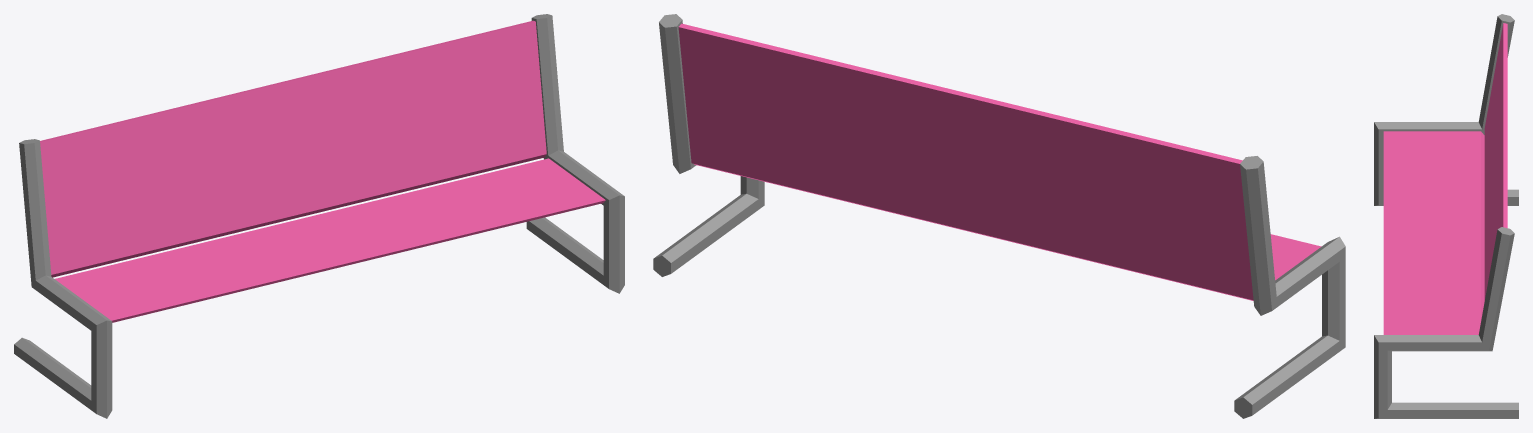
The model's file is SM_Bench_01_02.FBX.
3 renders of one model, left to right at view 1: azimuth 30°, elevation 25°; view 2: azimuth 150°, elevation 25°; view 3: azimuth 270°, elevation 25°, orthographic. The views are drawn at different scales.
Parts seen in each view (by area): view 1: SM_Bench_01_02; view 2: SM_Bench_01_02; view 3: SM_Bench_01_02.
Part boxes in pixels (bbox=[...]): SM_Bench_01_02: bbox=[14, 14, 624, 418]; SM_Bench_01_02: bbox=[653, 14, 1345, 418]; SM_Bench_01_02: bbox=[1374, 14, 1518, 418].
Bounding box in the file's own units: 1.7 × 0.6865 × 0.4749.
1 material, 1 textured.
